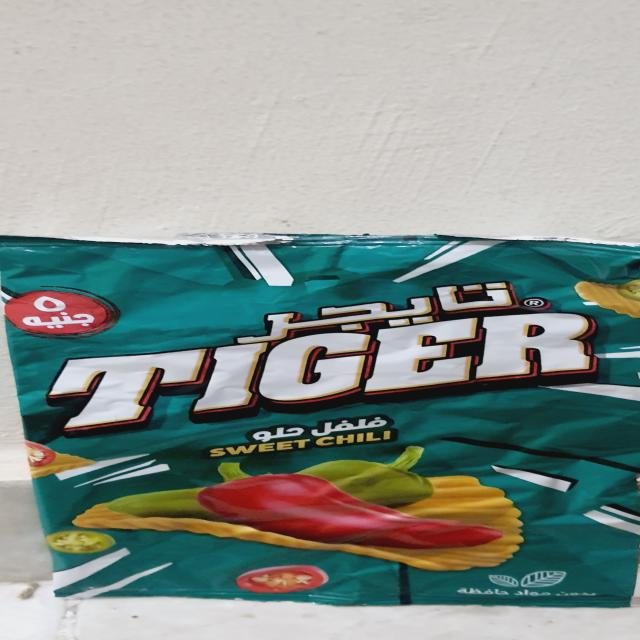Metal: (0, 231, 640, 607)
